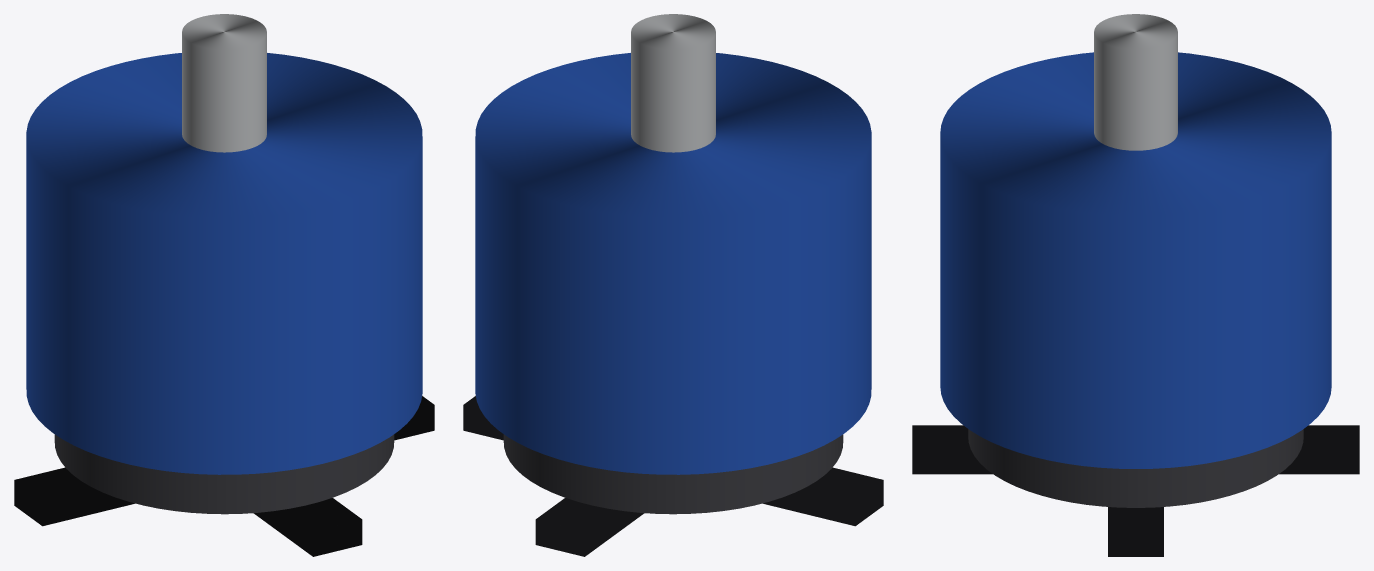
File: outrunner.obj
3 views of the same model, side by side, from view 1: azimuth 30°, elevation 25°; view 2: azimuth 150°, elevation 25°; view 3: azimuth 270°, elevation 25° (orthographic).
Parts seen in each view (by area): view 1: bell, stator_base, prop_shaft, mount_arm, mount_arm_2; view 2: bell, stator_base, prop_shaft, mount_arm, mount_arm_2; view 3: bell, stator_base, prop_shaft, mount_arm_2, mount_arm.
Boxes of the visible parts, left/top/right/bottom form: bell: left=26, top=53, right=422, bottom=474; stator_base: left=54, top=434, right=394, bottom=514; prop_shaft: left=182, top=14, right=266, bottom=152; mount_arm: left=14, top=396, right=434, bottom=526; mount_arm_2: left=253, top=498, right=362, bottom=556; bell: left=475, top=53, right=871, bottom=474; stator_base: left=503, top=434, right=843, bottom=514; prop_shaft: left=631, top=14, right=715, bottom=152; mount_arm: left=463, top=396, right=883, bottom=526; mount_arm_2: left=535, top=498, right=644, bottom=556; bell: left=940, top=52, right=1331, bottom=468; stator_base: left=968, top=429, right=1303, bottom=507; prop_shaft: left=1094, top=14, right=1177, bottom=150; mount_arm_2: left=912, top=425, right=1359, bottom=474; mount_arm: left=1108, top=507, right=1163, bottom=556.
Bounding box in the file's own units: 0.032 × 0.034 × 0.032.
